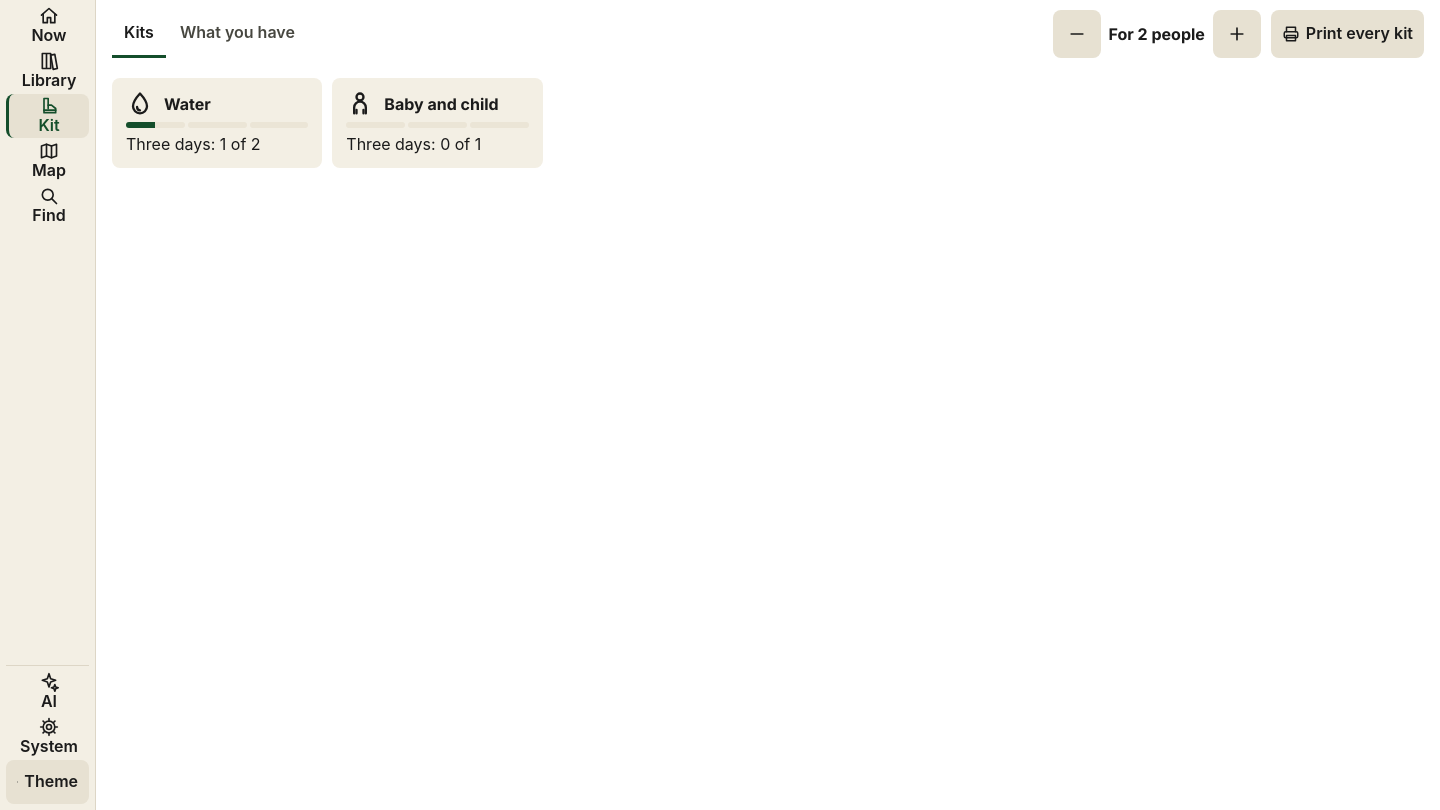
Test: Kits › is the one thing the box asks: how many people, on a stepper that saves and re-scales
Expected: the element named "How many people" reads "For 2 people", [1109,24,1205,44]
Click the button named "More": [1237, 34] box [1213,10,1261,58]
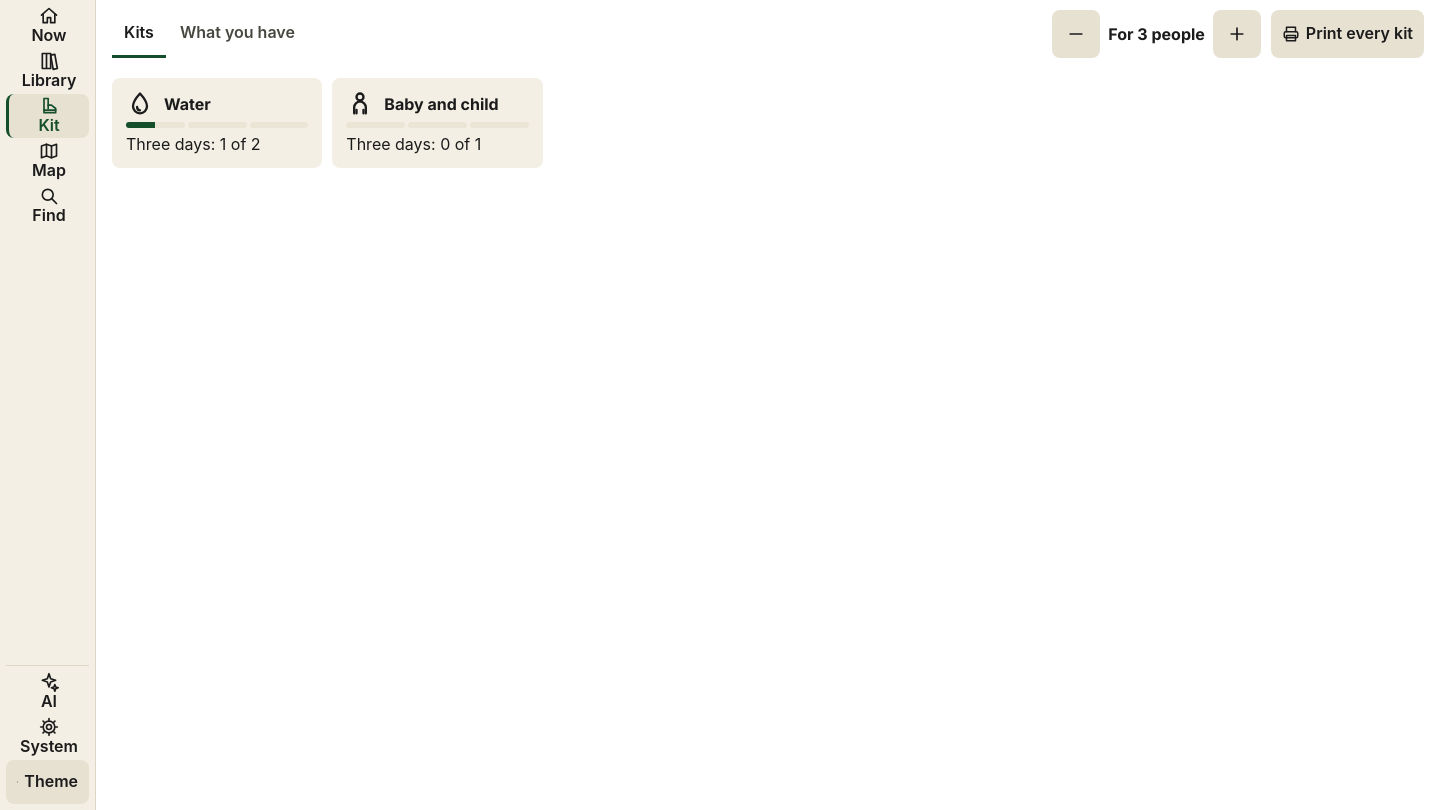
Expected: the text "For 3 people" is shown, [1108,22,1205,46]
